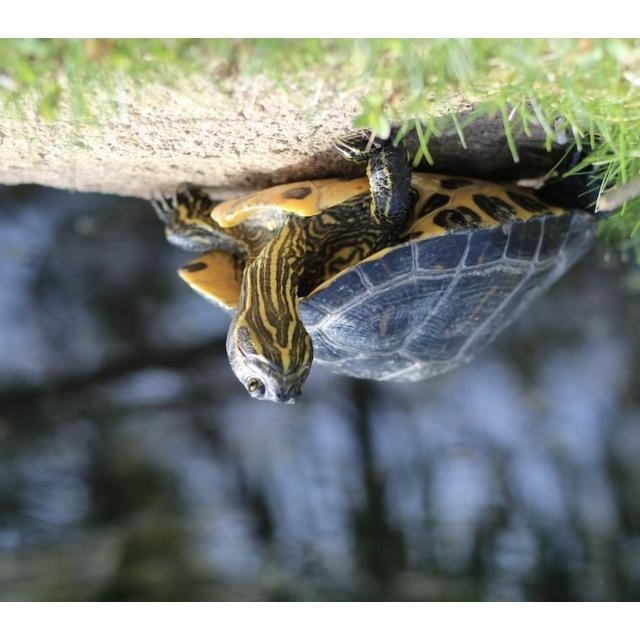turtle: (149, 129, 600, 406)
